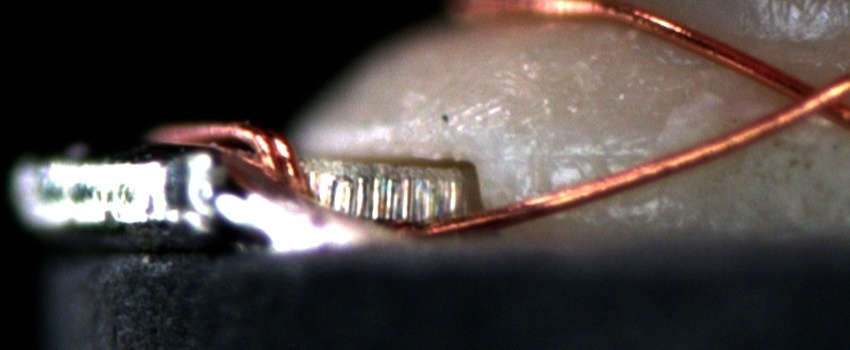CL: (763, 66, 846, 131)
DL: (515, 123, 649, 187)
TE: (141, 118, 344, 216)
